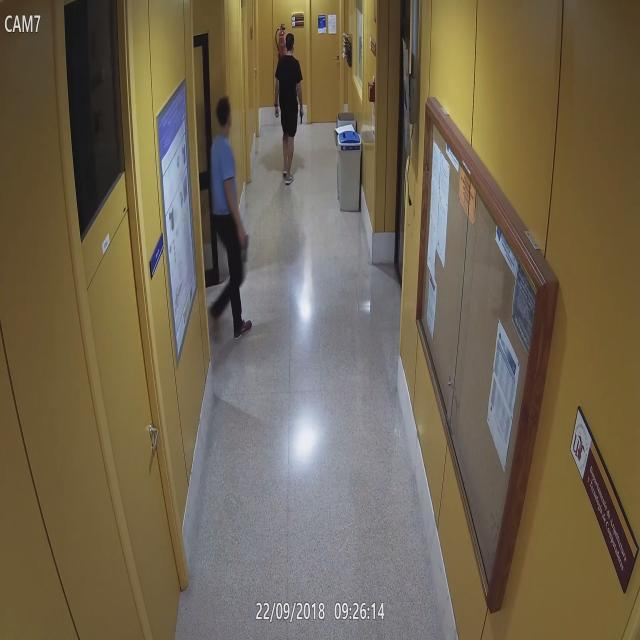Gun: (230, 226, 259, 274), (292, 105, 314, 136)
